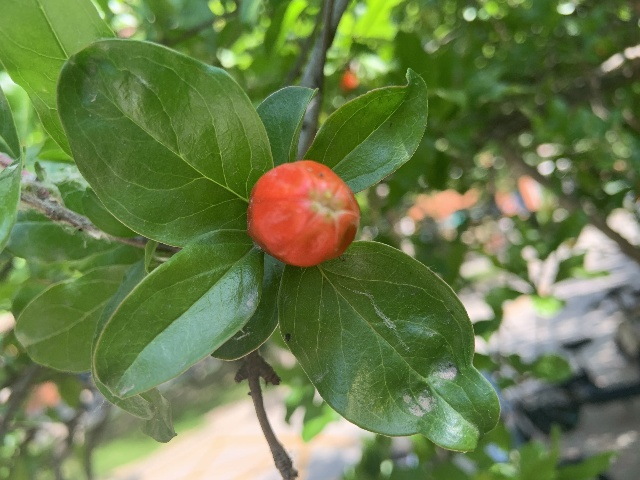bud: (246, 159, 360, 267)
